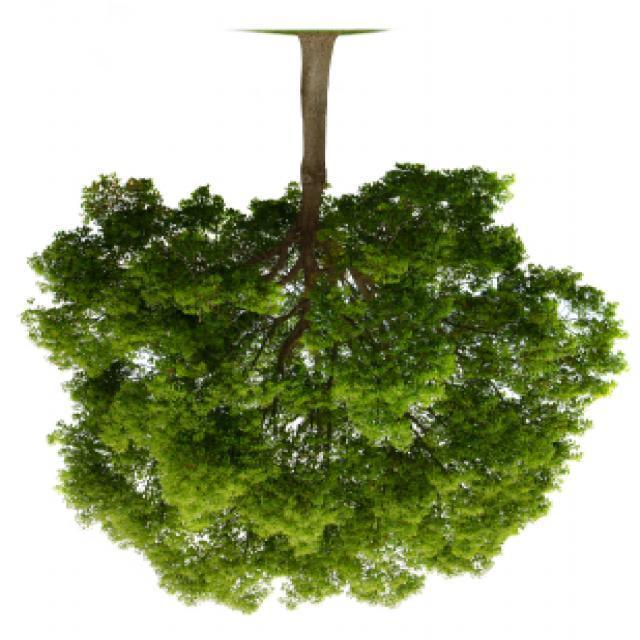tree: (39, 135, 614, 621)
